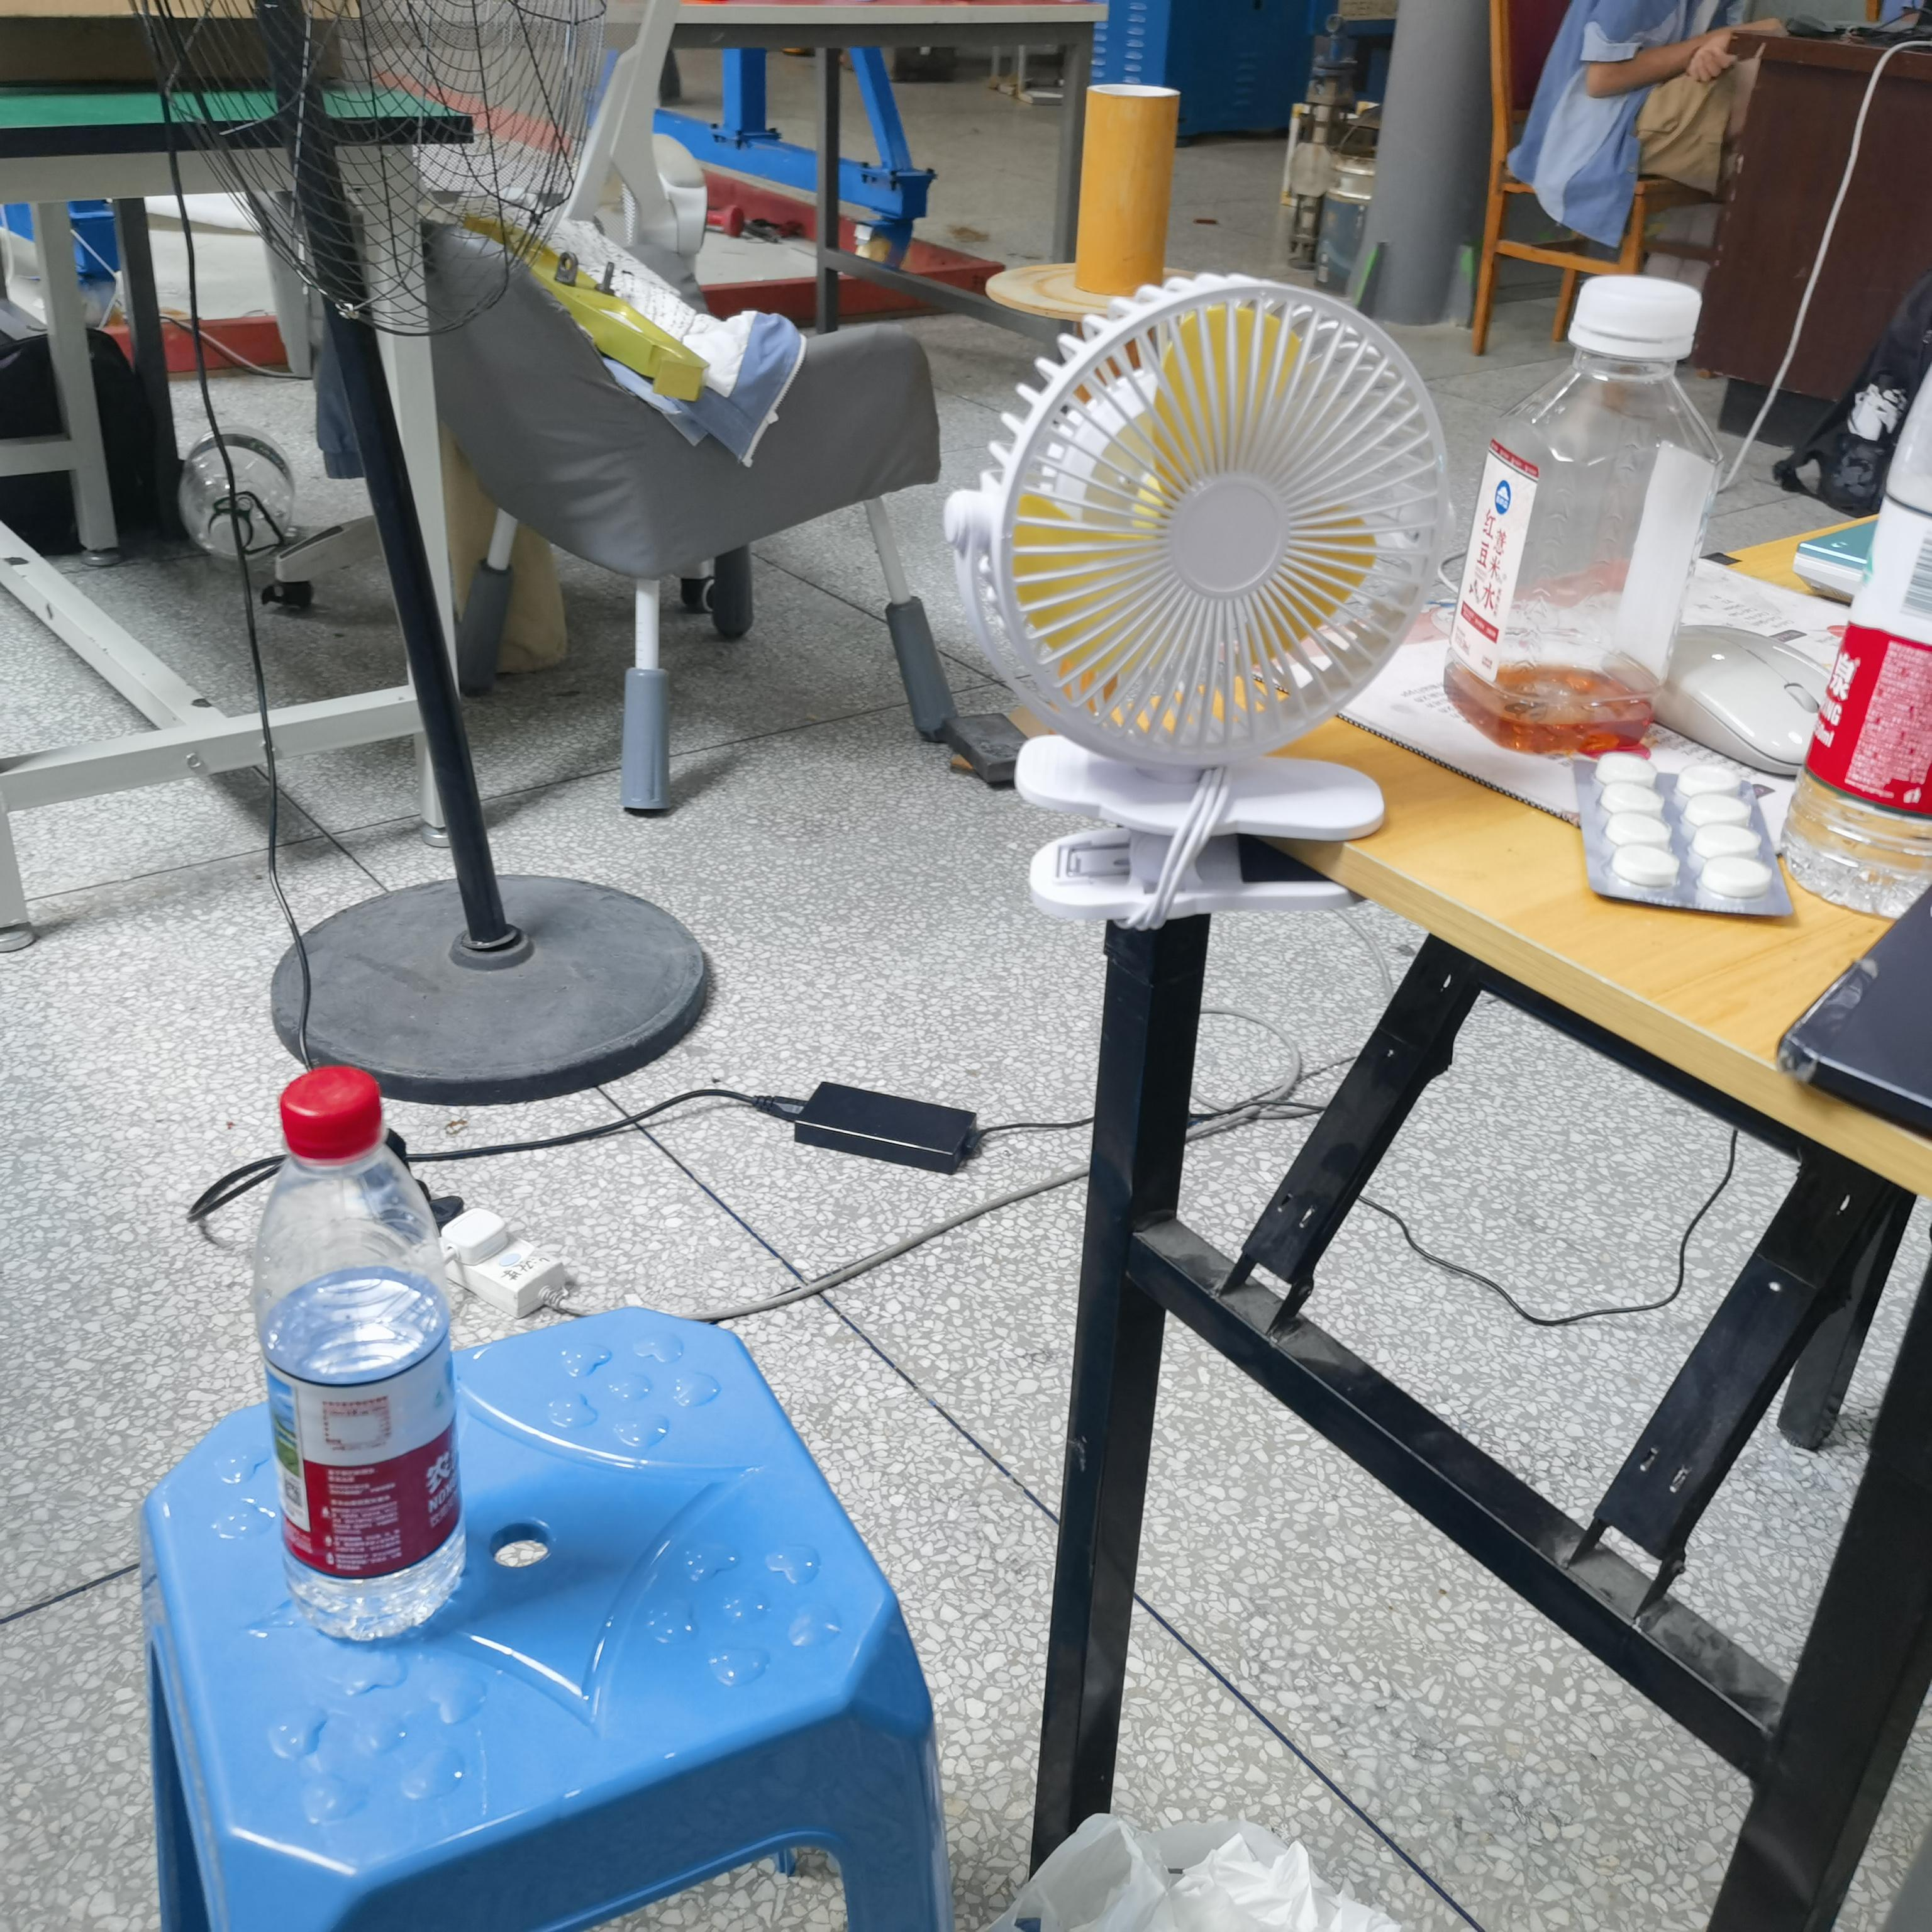bottle: (251, 1069, 465, 1642)
fan: (945, 274, 1449, 929)
